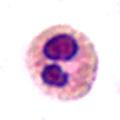eosi: (25, 22, 100, 101)
